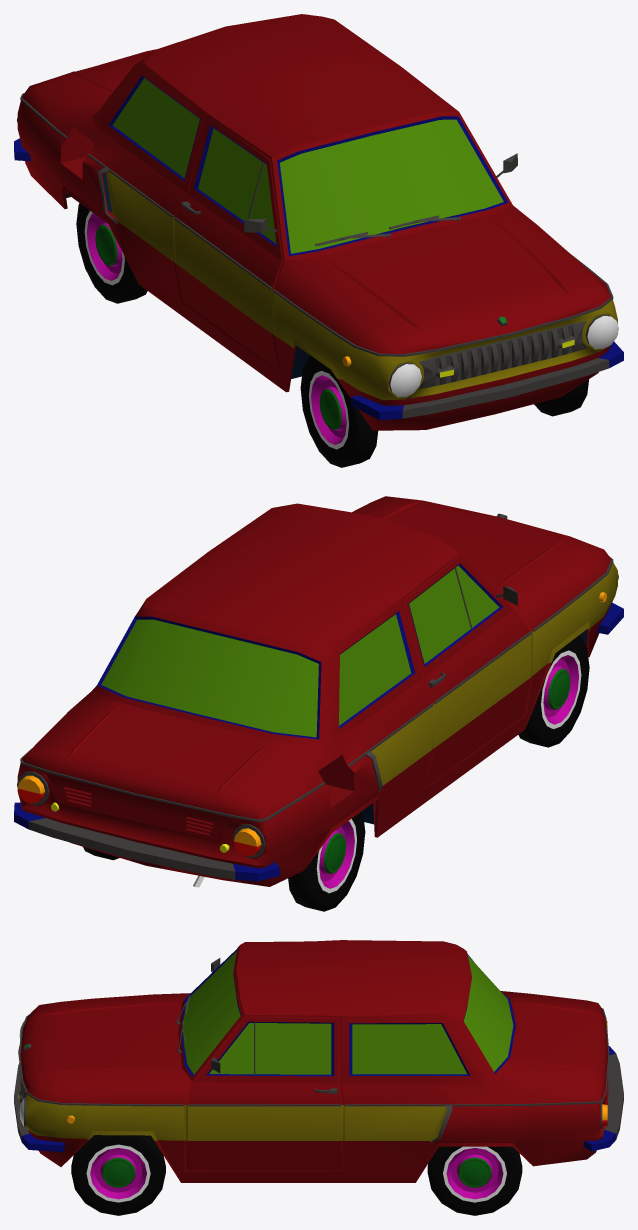
File: Zaporojec1.fbx
3 renders of one model, top to bottom at view 1: azimuth 30°, elevation 25°; view 2: azimuth 150°, elevation 25°; view 3: azimuth 270°, elevation 25°, orthographic. The views are drawn at different scales.
Visible parts, largest first — view 1: Body, Wheel_FR, Wheel_RR, Wheel_FL; view 2: Body, Wheel_FR, Wheel_RR; view 3: Body, Wheel_FL, Wheel_RL.
Boxes of the visible parts, x1=… form: Body: x1=14, y1=14, x2=623, y2=430; Wheel_FR: x1=300, y1=355, x2=378, y2=467; Wheel_RR: x1=76, y1=203, x2=147, y2=303; Wheel_FL: x1=534, y1=379, x2=588, y2=416; Body: x1=14, y1=496, x2=623, y2=887; Wheel_FR: x1=518, y1=635, x2=589, y2=747; Wheel_RR: x1=288, y1=811, x2=365, y2=911; Body: x1=14, y1=940, x2=623, y2=1182; Wheel_FL: x1=71, y1=1135, x2=165, y2=1215; Wheel_RL: x1=427, y1=1146, x2=522, y2=1215.
Bounding box in the file's own units: 154 × 138 × 371.
